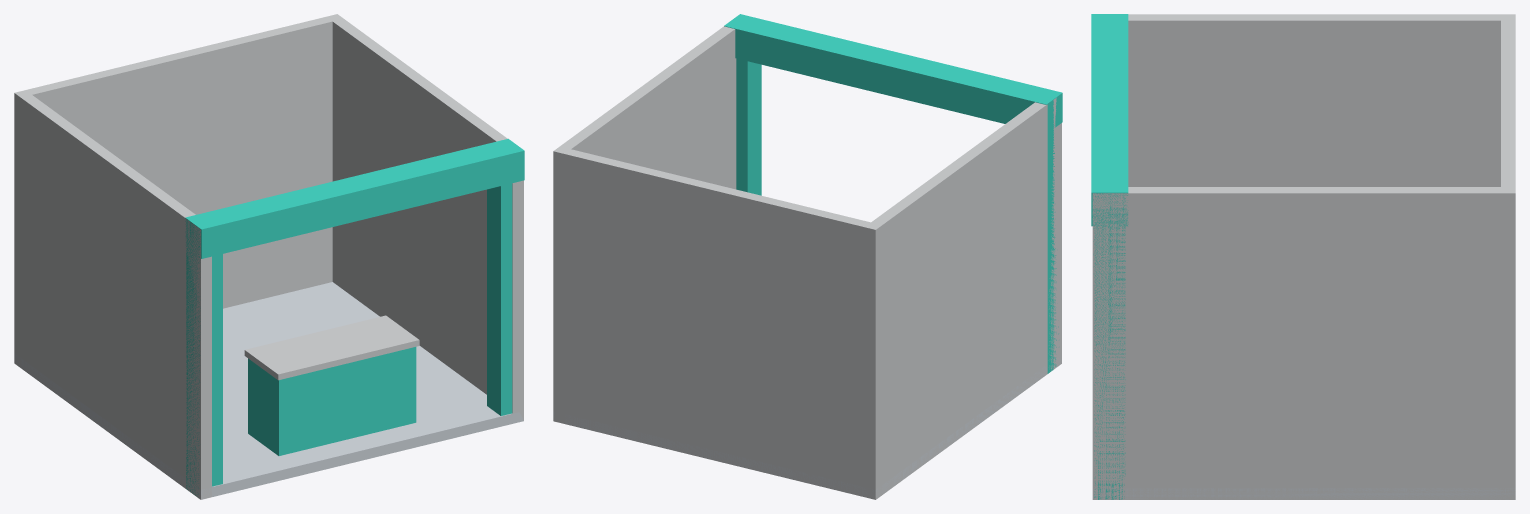
3 renders of one model, left to right at view 1: azimuth 30°, elevation 25°; view 2: azimuth 150°, elevation 25°; view 3: azimuth 270°, elevation 25°, orthographic. The views are drawn at different scales.
Parts seen in each view (by area): view 1: Exhibition Booth Concept; view 2: Exhibition Booth Concept; view 3: Exhibition Booth Concept.
Boxes of the visible parts, x1,y1,x2,y2 form: Exhibition Booth Concept: [14, 14, 524, 499]; Exhibition Booth Concept: [553, 14, 1062, 499]; Exhibition Booth Concept: [1091, 14, 1515, 499].
Size of the model in its own units: 4 by 3.2 by 4.02.
